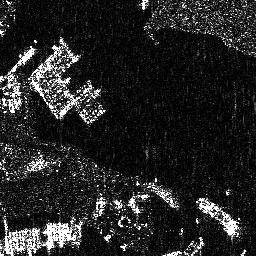ship: (192, 195, 241, 237)
